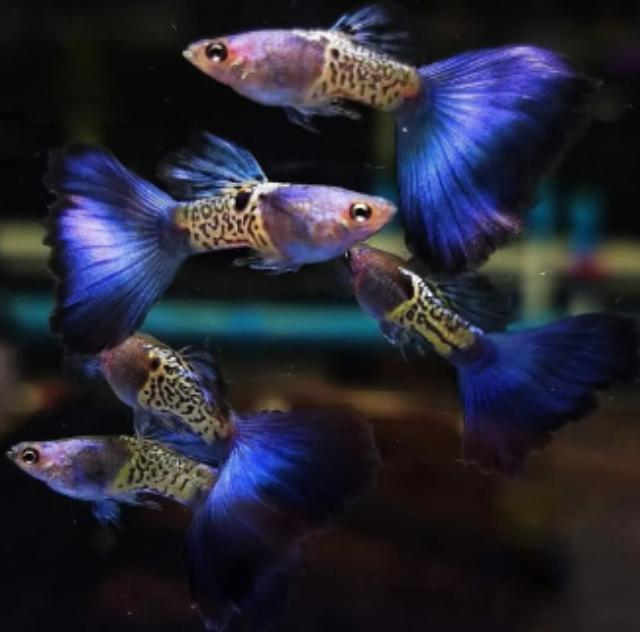Mulut: (160, 27, 208, 77), (0, 419, 38, 481), (368, 184, 418, 222)
Sirip Anal: (309, 72, 369, 142)
Sirip Ekor: (386, 22, 604, 288), (23, 113, 195, 369), (448, 302, 640, 498), (192, 401, 408, 572)
Sirip Perut: (242, 247, 312, 289), (405, 324, 445, 390), (273, 93, 315, 145)
Sirip Punggung: (159, 121, 283, 214), (114, 394, 233, 478), (320, 0, 420, 68), (170, 328, 236, 412)
